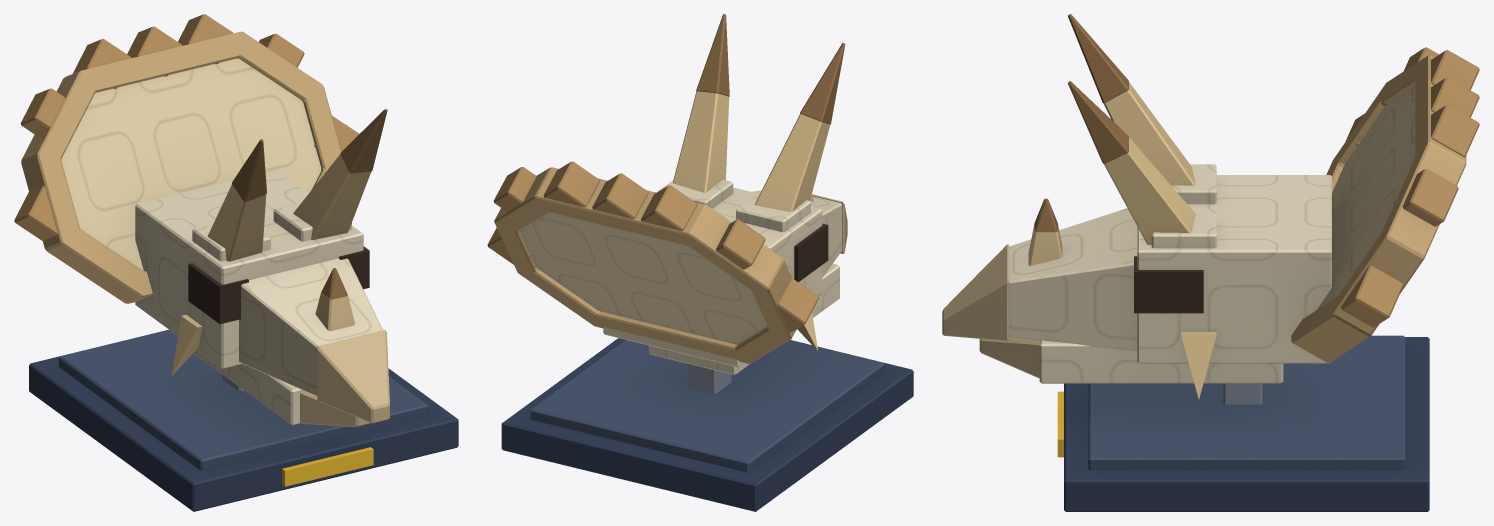
Rendered from TriceratopsSkull.fbx.
3 renders of one model, left to right at view 1: azimuth 30°, elevation 25°; view 2: azimuth 150°, elevation 25°; view 3: azimuth 270°, elevation 25°, orthographic. The views are drawn at different scales.
Parts seen in each view (by area): view 1: Art_TriceratopsSkull; view 2: Art_TriceratopsSkull; view 3: Art_TriceratopsSkull.
Boxes of the visible parts, left/top/right/bottom form: Art_TriceratopsSkull: left=14, top=14, right=458, bottom=511; Art_TriceratopsSkull: left=487, top=14, right=913, bottom=511; Art_TriceratopsSkull: left=942, top=14, right=1479, bottom=511.
Size of the model in its own units: 2.61 by 2.67 by 3.31.
